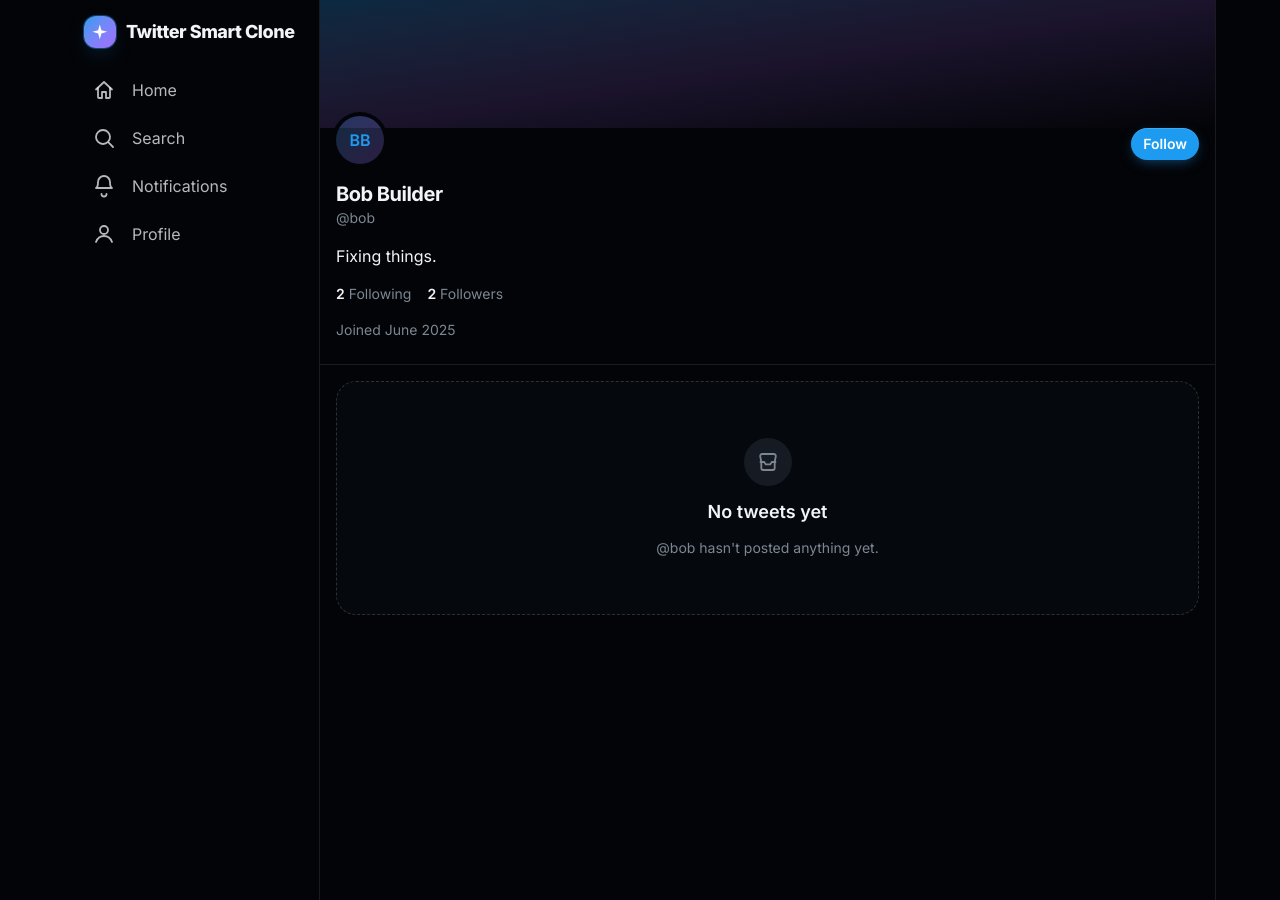
Test: Followers / Following lists › navigates from a profile to its followers list via the count link
Expected: the heading "Bob Builder" is shown, x1=336 y1=182 x2=442 y2=206
Step 1. Click the link "2 Followers" → (465, 294), box x1=427 y1=284 x2=503 y2=304
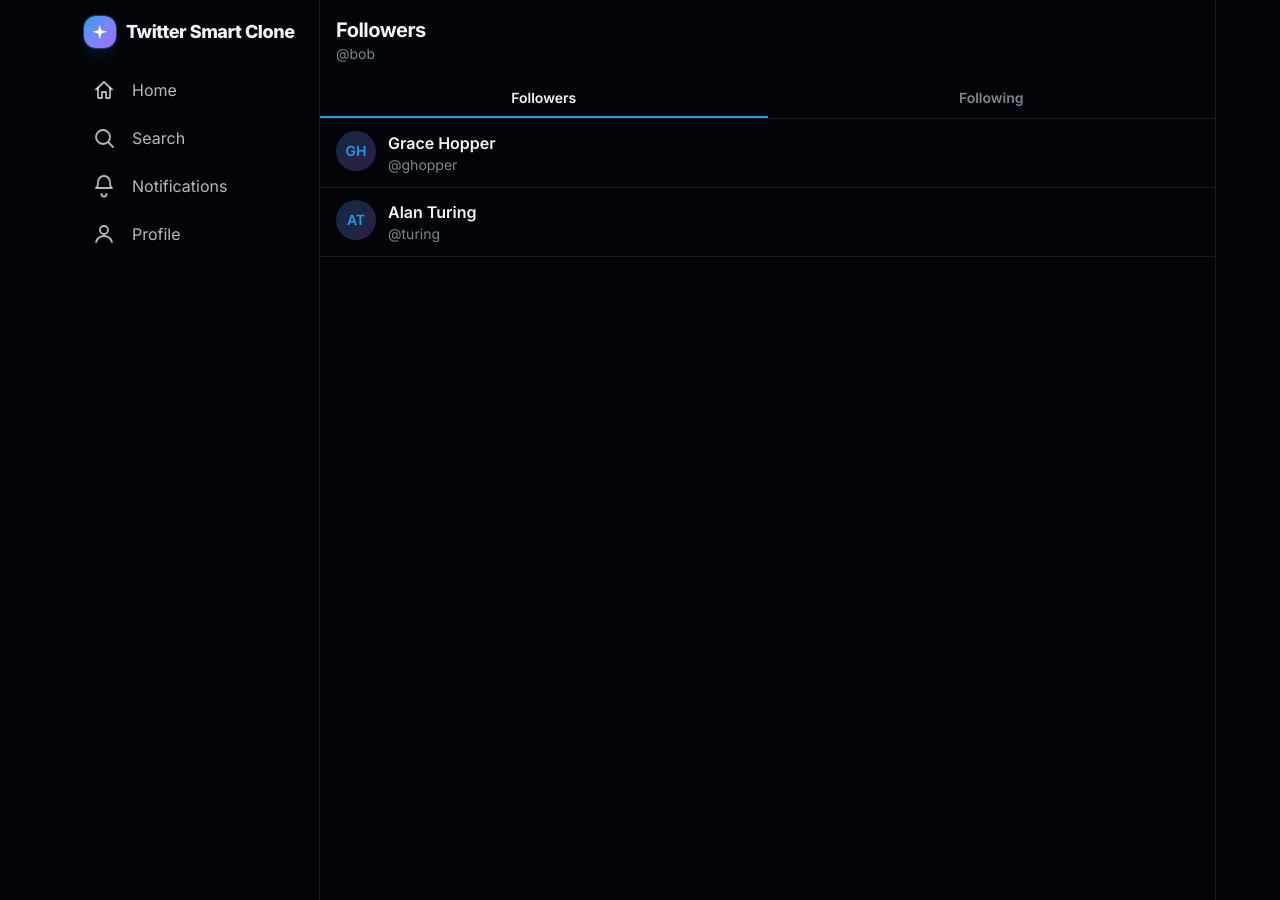
Expected: the heading "Followers" is shown, x1=336 y1=18 x2=426 y2=42
Expected: the text "Grace Hopper" is shown, x1=388 y1=133 x2=496 y2=153
Expected: the text "Alan Turing" is shown, x1=388 y1=202 x2=476 y2=222
